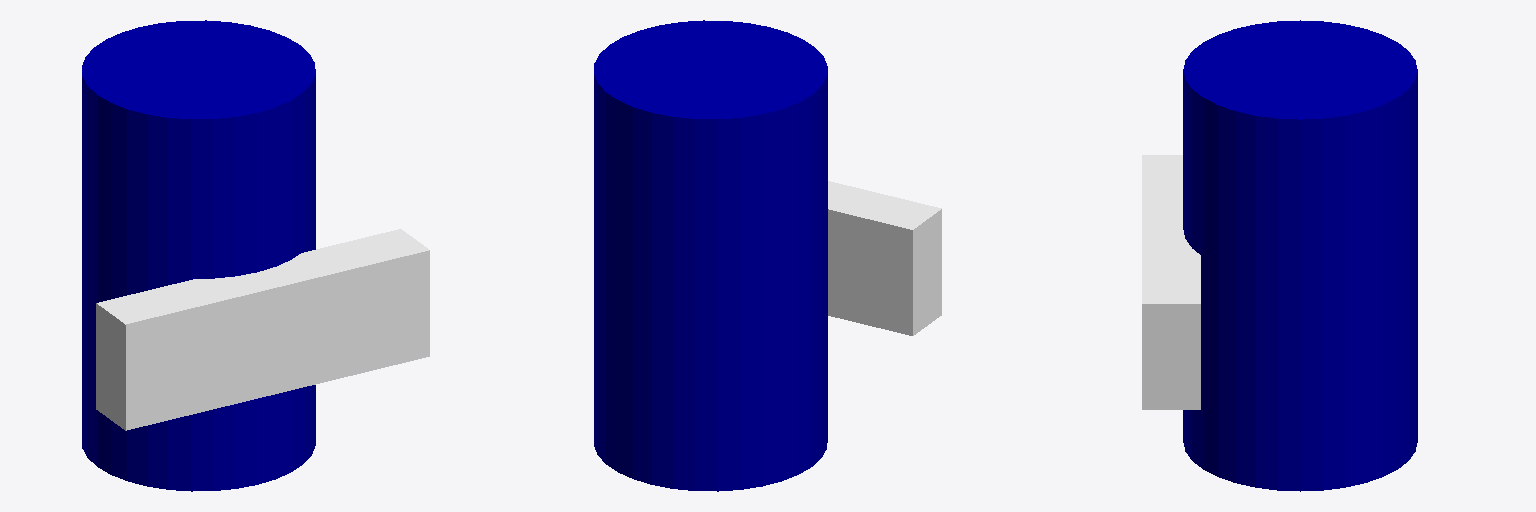
robot.urdf — my_robot:
<?xml version="1.0"?>
<robot xmlns:xacro="http://www.ros.org/wiki/xacro" name="my_robot">

    <material name="blue">
        <color rgba="0.0 0.0 0.7 1.0"/>
    </material>
    <material name="white">
    <color rgba="1.0 1.0 1.0 1.0"/>
    </material>
    
    <link name="base_link">
        <visual>
            <geometry>
                <cylinder radius="0.2" length="0.7"/>
            </geometry>
            <origin rpy="0.0 0.0 0.0" xyz="0.0 0.0 0.0"/>
            <material name="blue"/>
        </visual>

        <collision>
            <geometry>
                <cylinder radius="0.2" length="0.7"/>
            </geometry>
            <origin rpy="0.0 0.0 0.0" xyz="0.0 0.0 0.0"/>
        </collision>

        <inertial>
            <mass value="10"/>    
            <inertia ixx="1e-3" ixy="0.0" ixz="0.0" iyy="1e-3" iyz="0.0" izz="1e-3"/>
        </inertial>
    </link>

    <link name="right_leg">
        <visual>
            <geometry>
                <box size="0.6 0.1 0.2"/>
            </geometry>
            <origin rpy="0 0 0" xyz="0 0 -0.3"/>
            <material name="white"/>
        </visual>
    </link>

    <joint name="base_to_right_leg" type="continuous">
        <axis rpy="0.0 0.0 0.0" xyz="0 1 0"/>
        <parent link="base_link"/>
        <child link="right_leg"/>
        <origin xyz="0 -0.22 0.25"/>
    </joint>

</robot>

--- Render facts (derived) ---
Views: 3 orthographic renders of the robot side by side, from view 1: azimuth 30°, elevation 25°; view 2: azimuth 150°, elevation 25°; view 3: azimuth 270°, elevation 25°.
Robot: my_robot — 2 links, 1 joints (1 continuous); root link base_link; default pose: every joint at zero.
Visible links, largest first — view 1: base_link, right_leg; view 2: base_link, right_leg; view 3: base_link, right_leg.
Link boxes in pixels (x1,y1,x2,y2): base_link: (82,20,315,491); right_leg: (96,229,429,430); base_link: (594,20,827,491); right_leg: (828,181,941,335); base_link: (1183,20,1417,491); right_leg: (1142,155,1200,409).
Size in the robot's own frame: 0.6 by 0.47 by 0.7 metres.
Geometry: primitives only (box / cylinder / sphere), no mesh files.